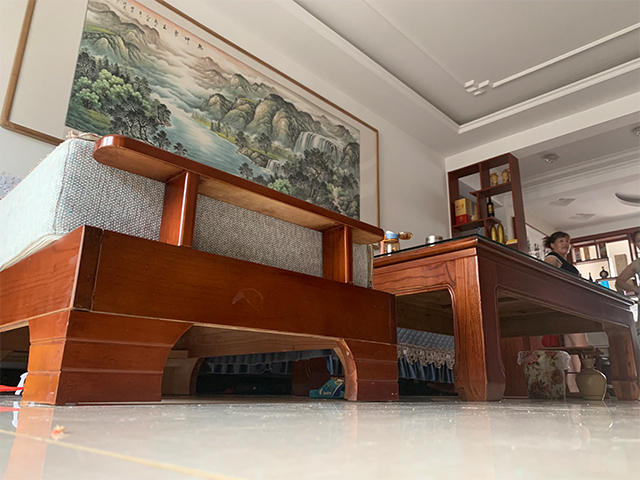sofa: (1, 130, 457, 406)
table: (371, 233, 640, 403)
trashcan: (516, 349, 568, 401)
